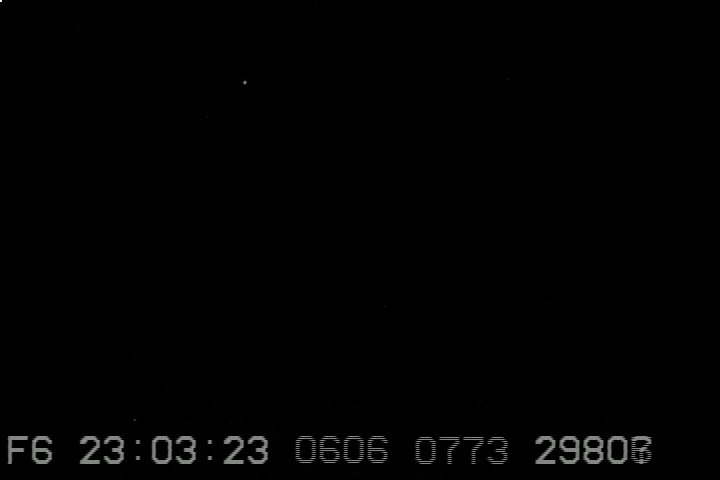0: (412, 434, 438, 467), (606, 433, 630, 466), (150, 433, 173, 466), (343, 432, 365, 466), (294, 434, 318, 465)
2: (534, 433, 557, 466), (78, 434, 101, 466), (223, 434, 244, 466)
3: (174, 434, 198, 466), (486, 435, 510, 466), (103, 434, 126, 466), (247, 434, 269, 466)
6: (367, 433, 389, 468), (31, 434, 53, 467), (318, 434, 340, 466)
67: (631, 433, 653, 466)
7: (462, 435, 485, 468), (438, 434, 460, 468)
8: (583, 434, 604, 466)
9: (559, 434, 580, 466)
F: (6, 435, 29, 466)
